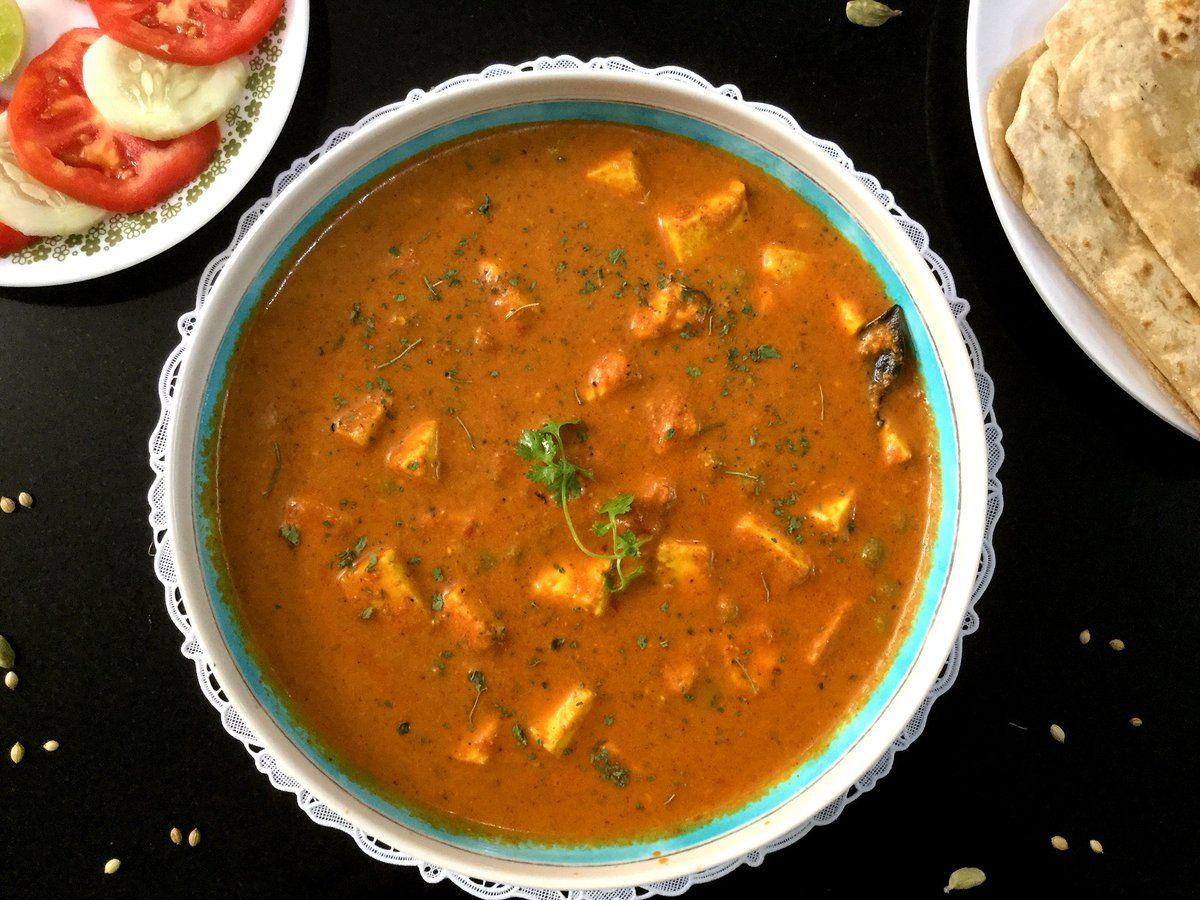ShahiPaneer: (213, 115, 928, 838)
